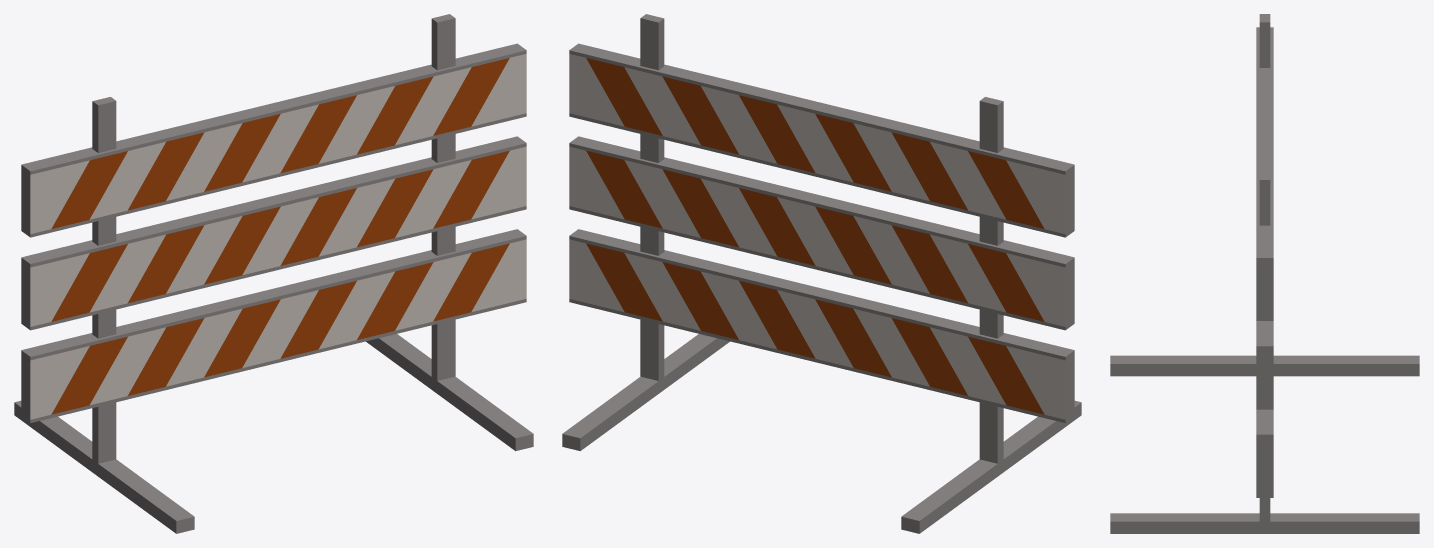
The model's file is quaternius-zombie-apocalypse-kit-march-trafficbarrier-1.glb.
3 renders of one model, left to right at view 1: azimuth 30°, elevation 25°; view 2: azimuth 150°, elevation 25°; view 3: azimuth 270°, elevation 25°, orthographic. The views are drawn at different scales.
Visible parts, largest first — view 1: TrafficBarrier_1; view 2: TrafficBarrier_1; view 3: TrafficBarrier_1.
Part boxes in pixels (left/top/right/bottom): TrafficBarrier_1: left=14, top=14, right=533, bottom=533; TrafficBarrier_1: left=562, top=14, right=1081, bottom=533; TrafficBarrier_1: left=1110, top=14, right=1419, bottom=533.
Bounding box in the file's own units: 1.56 × 1.11 × 0.8807.
1 material, 1 textured.
